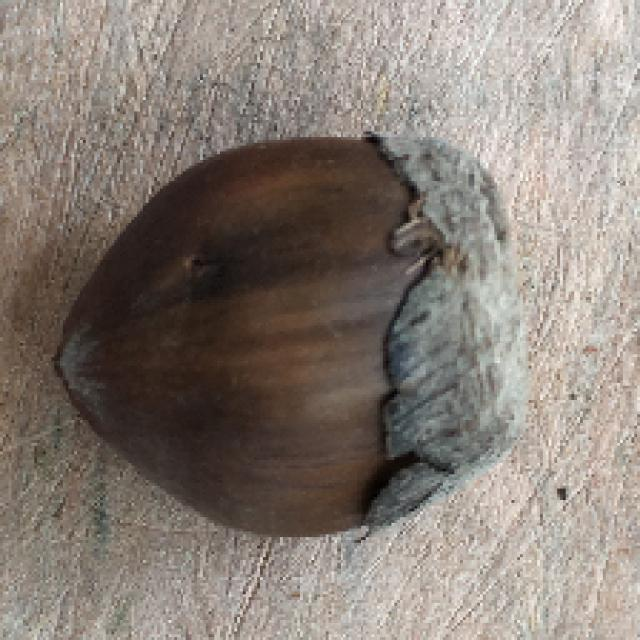damagedHazelnut: (49, 128, 538, 550)
